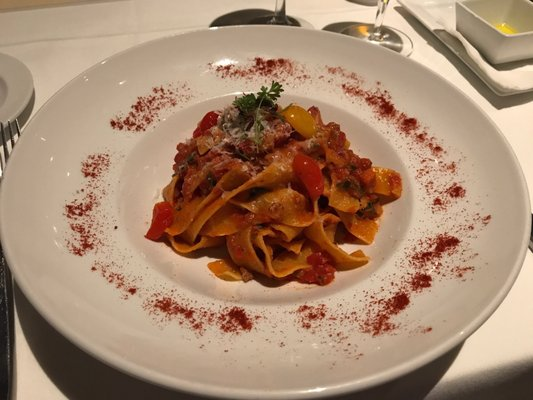burger: (0, 116, 23, 393), (0, 120, 21, 187)
sandwich: (393, 1, 533, 102)
